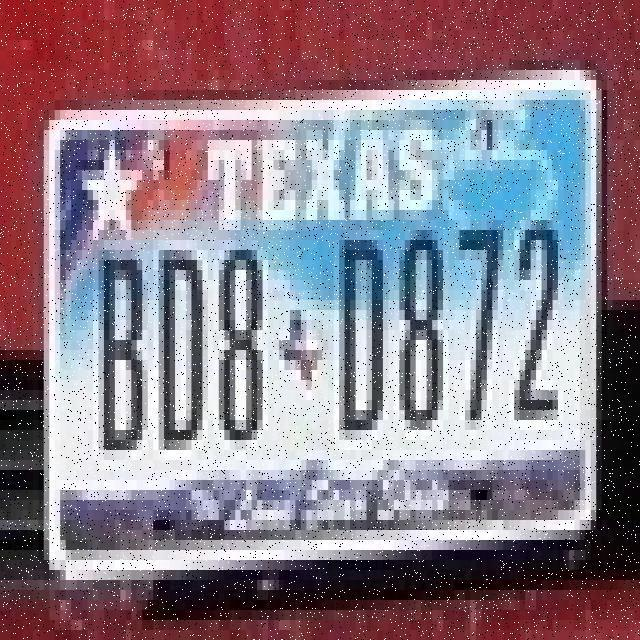LicensePlate: (38, 67, 601, 571)
